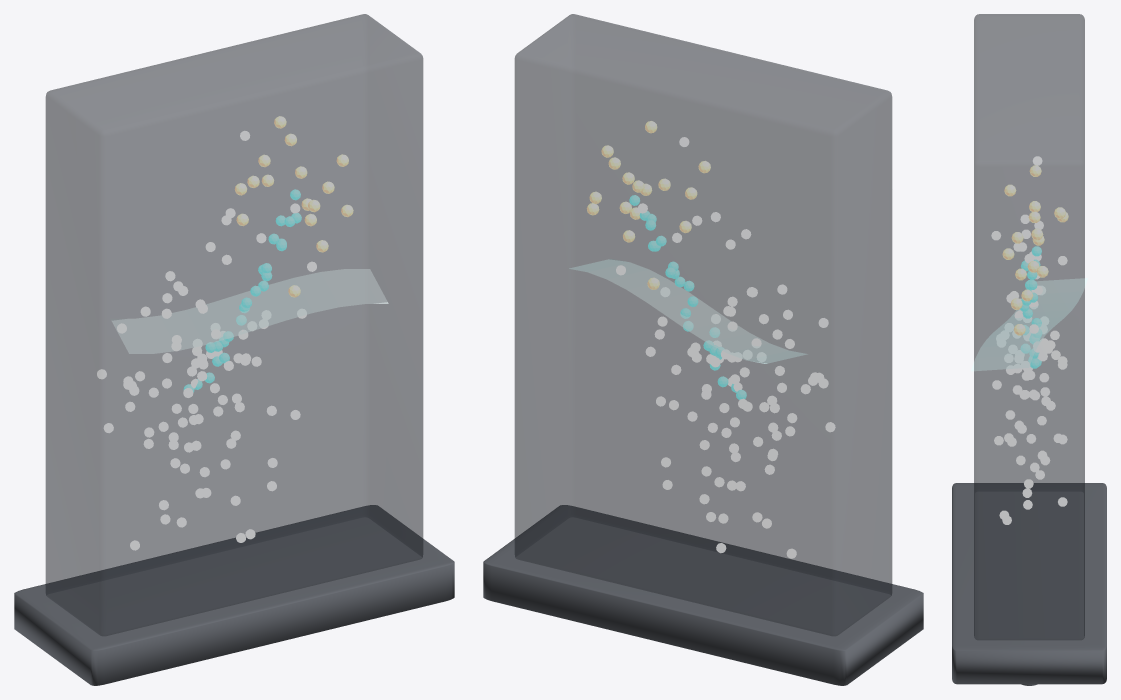
The model's file is optical_data_monolith.glb.
3 renders of one model, left to right at view 1: azimuth 30°, elevation 25°; view 2: azimuth 150°, elevation 25°; view 3: azimuth 270°, elevation 25°, orthographic. The views are drawn at different scales.
Visible parts, largest first — view 1: OpticalMonolith_Glass, TitaniumPedestal, Internal_Decision_Manifold; view 2: OpticalMonolith_Glass, TitaniumPedestal, Internal_Decision_Manifold; view 3: OpticalMonolith_Glass, TitaniumPedestal, Internal_Decision_Manifold.
Boxes of the visible parts, x1,y1,x2,y2 form: OpticalMonolith_Glass: (45,14,423,635); TitaniumPedestal: (14,505,454,685); Internal_Decision_Manifold: (111,269,388,353); OpticalMonolith_Glass: (514,14,892,635); TitaniumPedestal: (483,505,923,685); Internal_Decision_Manifold: (569,259,807,363); OpticalMonolith_Glass: (974,14,1084,639); TitaniumPedestal: (952,483,1106,684); Internal_Decision_Manifold: (971,278,1087,371).
Size of the model in its own units: 3.6 by 5.23 by 1.4.
